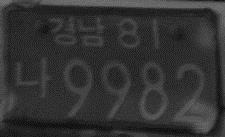1: (149, 16, 162, 52)
2: (170, 61, 206, 123)
8: (137, 61, 169, 121), (117, 16, 141, 49)
9: (99, 58, 133, 122), (61, 57, 94, 120)
경남_O: (46, 15, 106, 49)
나: (14, 56, 54, 100)
